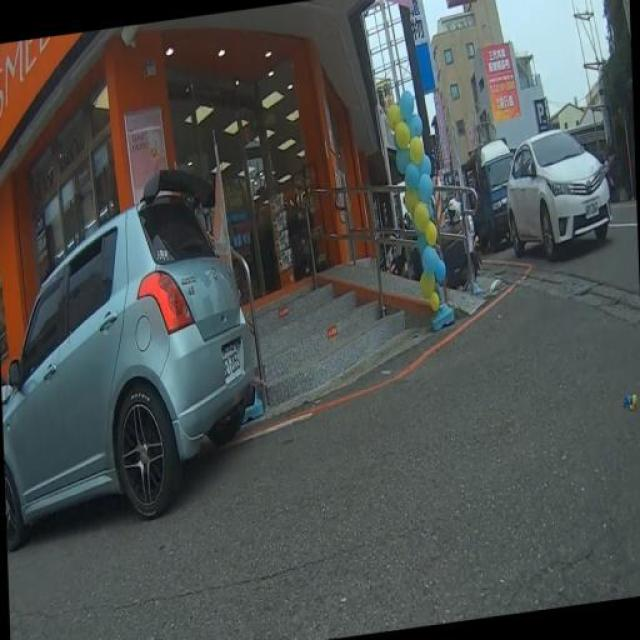Legalparking: (8, 123, 624, 544)
